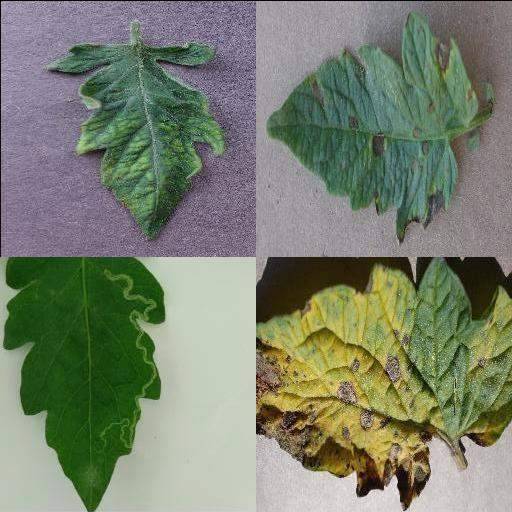Early Blight: (258, 256, 512, 509), (263, 11, 479, 243)
Leaf Miner: (3, 256, 168, 512)
Mosaic Virus: (45, 37, 225, 241)
